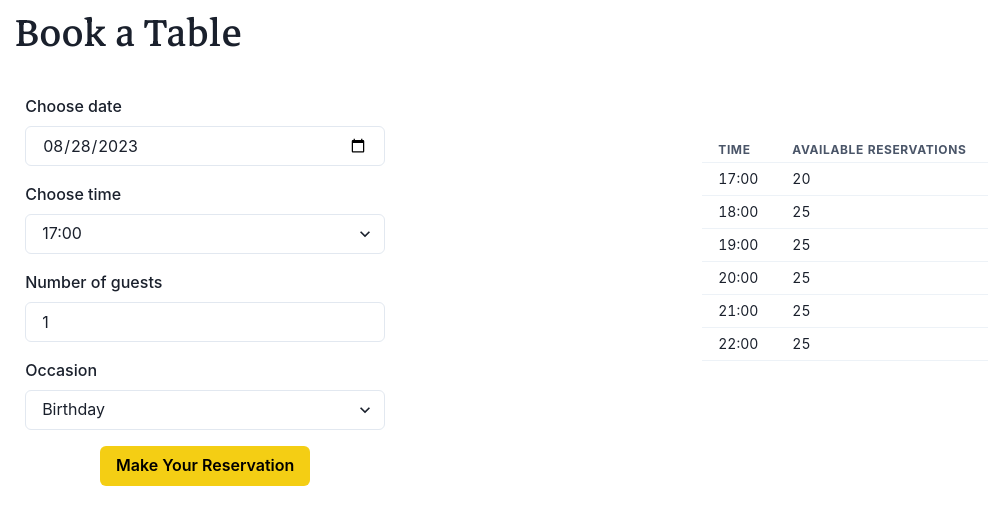
Test case: Test Cases for Booking Functionality › Invalid occasion input test
Select "Work" in the dropdown labelled "Occasion" at [205, 410], box 25,390 -> 385,430
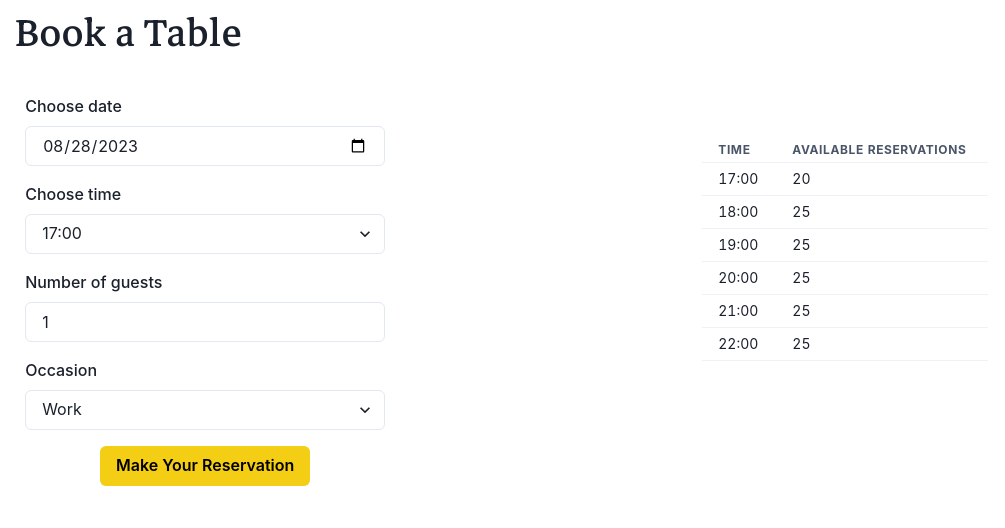
Click the button "Make Your Reservation" at [205, 466], box 100,446 -> 310,486
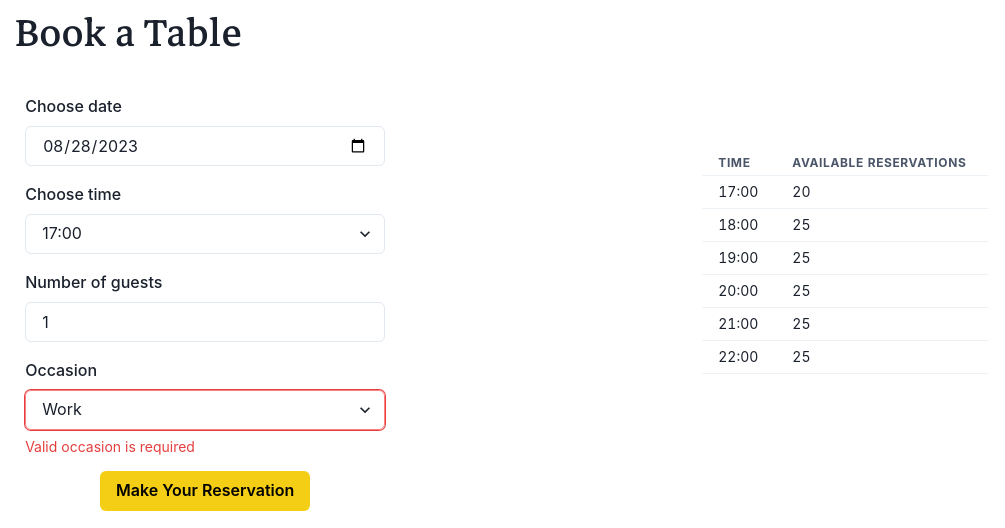
Now the text "Valid occasion is required" is shown, box 25,438 -> 195,455
